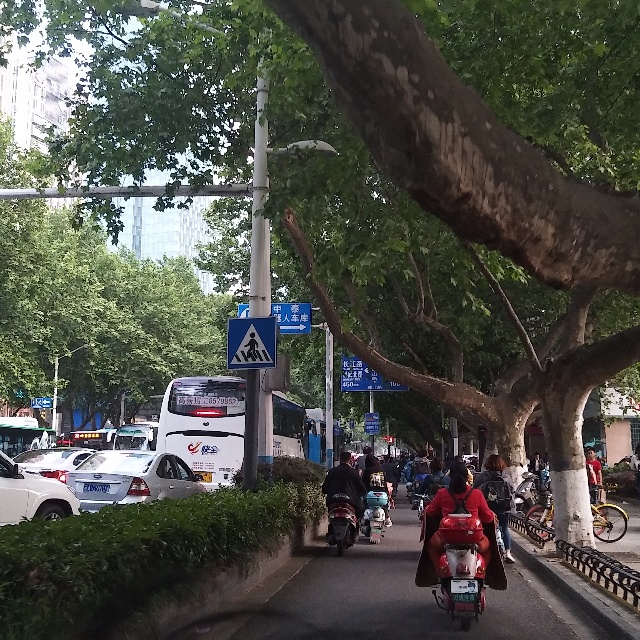crosswalk: (226, 318, 272, 364)
